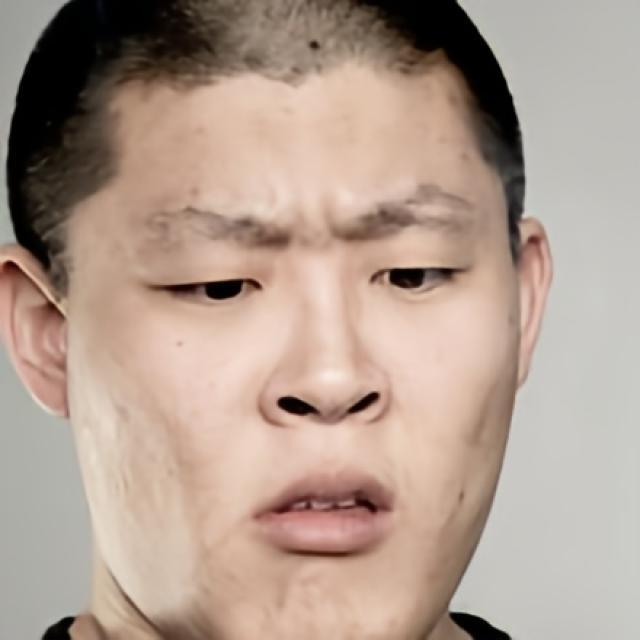disgust: (60, 56, 522, 640)
